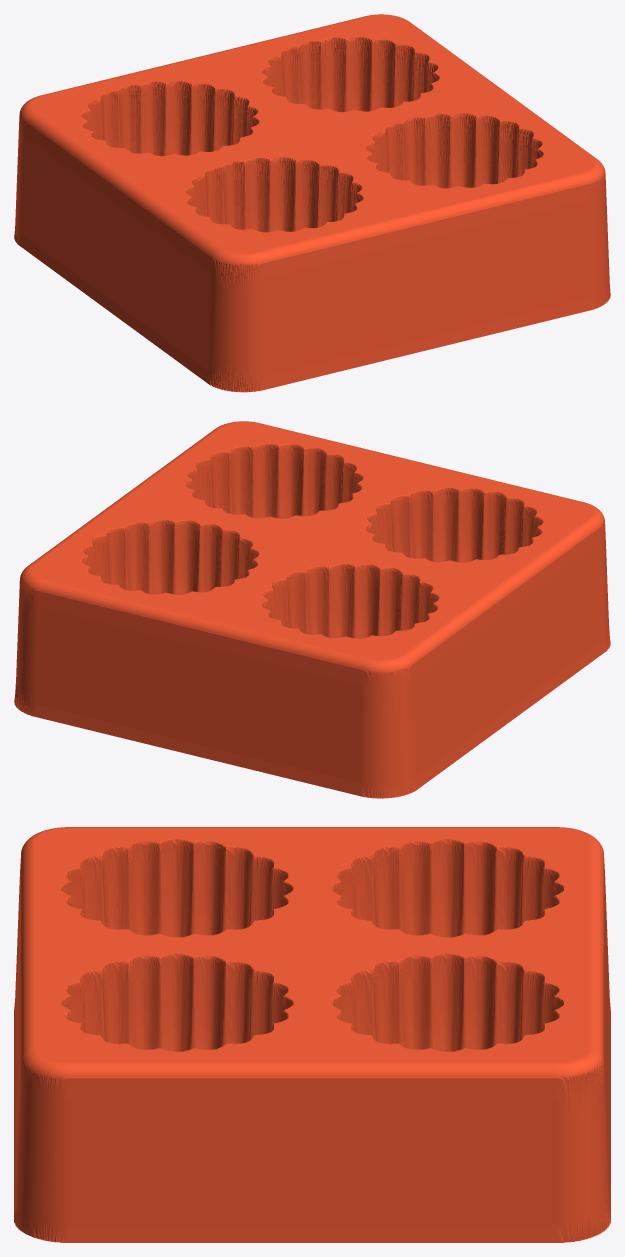
File: mold.glb
The picture shows the model from 3 angles, top to bottom: view 1: azimuth 30°, elevation 25°; view 2: azimuth 150°, elevation 25°; view 3: azimuth 270°, elevation 25°; orthographic projection. The views are drawn at different scales.
Visible parts, largest first — view 1: geometry_0; view 2: geometry_0; view 3: geometry_0.
Boxes of the visible parts, <box> form: geometry_0: <box>14,14,610,392</box>; geometry_0: <box>14,421,610,798</box>; geometry_0: <box>14,827,610,1242</box>.
Bounding box in the file's own units: 0.0992 × 0.0314 × 0.0992.
